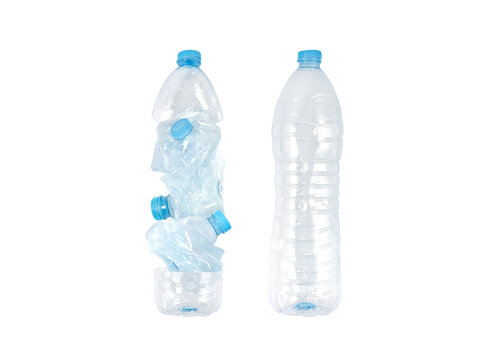plastic_bottle: (264, 43, 351, 324), (149, 43, 234, 319)
